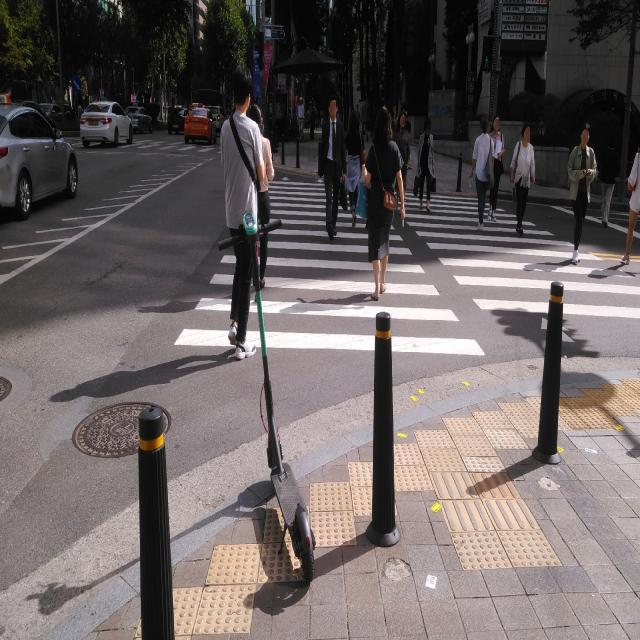횡단보도: (172, 174, 640, 360)
